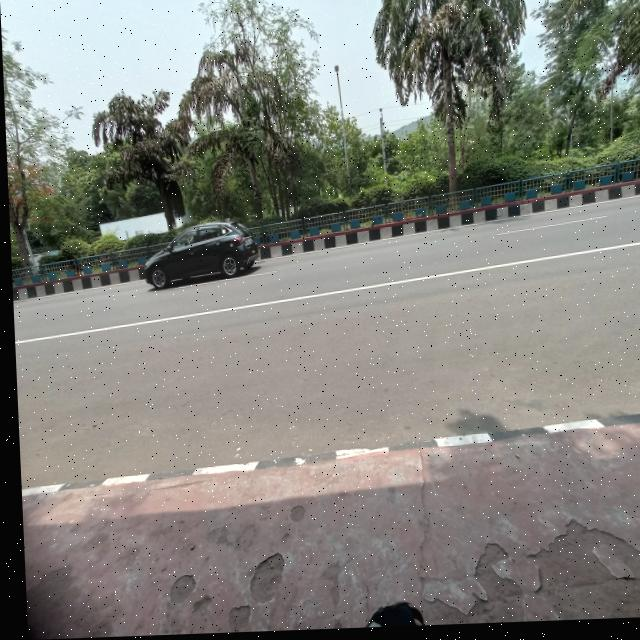car: (137, 219, 265, 289)
